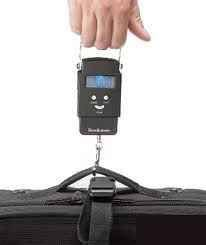Industrial Scale: (73, 38, 128, 183)
